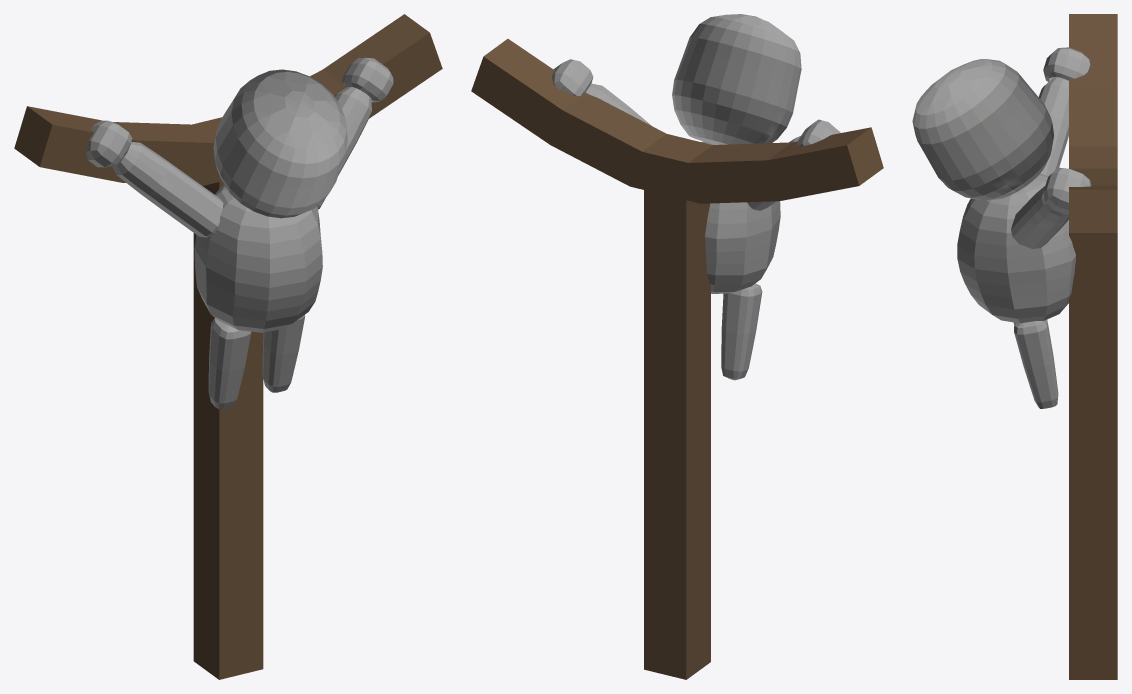
The model's file is hangman_1.glb.
3 views of the same model, side by side, from view 1: azimuth 30°, elevation 25°; view 2: azimuth 150°, elevation 25°; view 3: azimuth 270°, elevation 25° (orthographic). The views are drawn at different scales.
Parts seen in each view (by area): view 1: Crucifiction Pole.054; view 2: Crucifiction Pole.054; view 3: Crucifiction Pole.054.
Part boxes in pixels (bbox=[...]): Crucifiction Pole.054: bbox=[14, 14, 442, 679]; Crucifiction Pole.054: bbox=[471, 14, 883, 679]; Crucifiction Pole.054: bbox=[912, 14, 1117, 679].
Size of the model in its own units: 0.1113 by 0.1668 by 0.0515.
